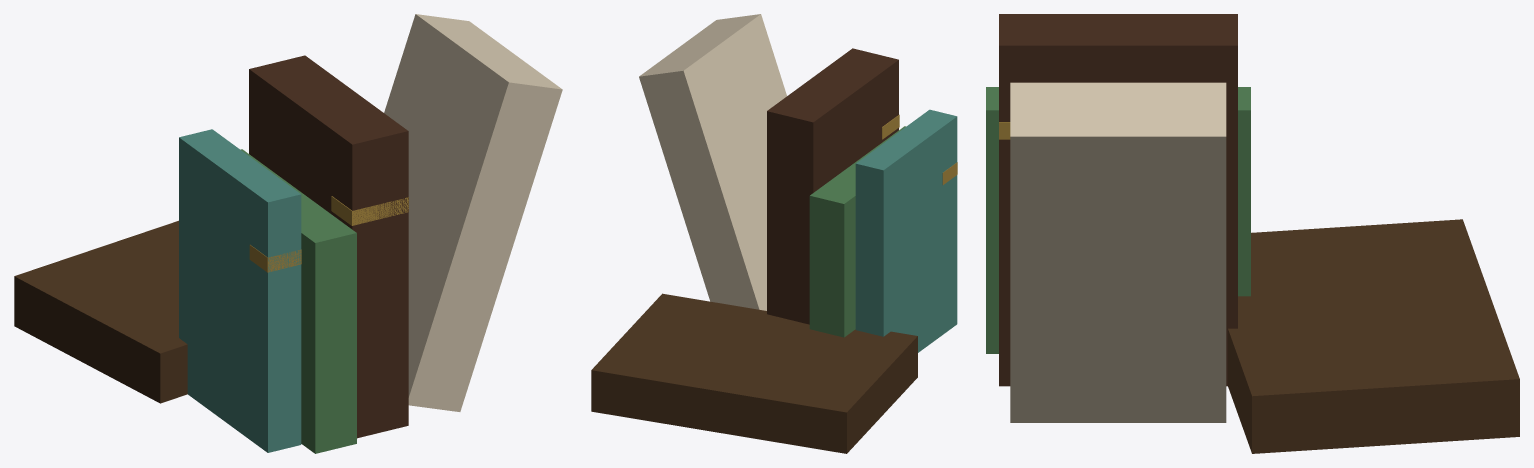
The model's file is book-stack-23.glb.
3 views of the same model, side by side, from view 1: azimuth 30°, elevation 25°; view 2: azimuth 150°, elevation 25°; view 3: azimuth 270°, elevation 25° (orthographic). The views are drawn at different scales.
Parts seen in each view (by area): view 1: book_stack_23; view 2: book_stack_23; view 3: book_stack_23.
Part boxes in pixels (bbox=[...]): book_stack_23: bbox=[14, 14, 562, 453]; book_stack_23: bbox=[591, 14, 957, 453]; book_stack_23: bbox=[986, 14, 1519, 453].
Bounding box in the file's own units: 0.2957 × 0.2545 × 0.3351.
